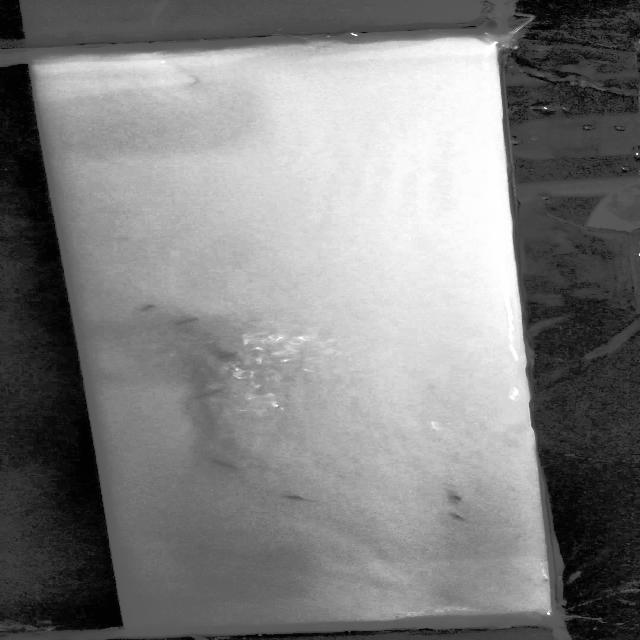shrimp: (433, 507, 484, 530), (194, 384, 240, 398), (437, 486, 470, 505), (212, 458, 245, 476), (172, 315, 212, 329), (204, 344, 248, 356), (281, 486, 310, 502), (141, 300, 167, 315)
